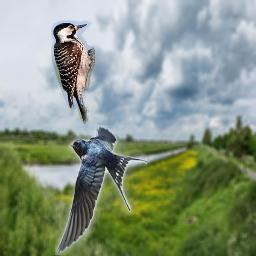Swallow: (55, 125, 147, 255)
Woodpecker: (51, 20, 95, 124)
